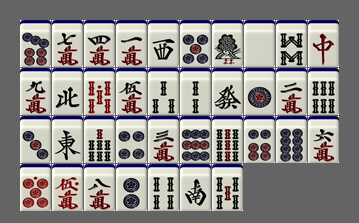0m: (52, 164, 83, 211)
0p: (20, 164, 51, 211)
0s: (84, 68, 115, 115)
1m: (116, 20, 147, 67)
1p: (244, 68, 275, 115)
1s: (212, 20, 243, 67)
1z: (52, 116, 83, 163)
2m: (276, 68, 307, 115)
2p: (116, 164, 147, 211)
2s: (180, 68, 211, 115)
2z: (180, 164, 211, 211)
3m: (148, 116, 179, 163)
3p: (20, 116, 51, 163)
3s: (148, 68, 179, 115)
3z: (148, 20, 179, 67)
4m: (84, 20, 115, 67)
4p: (116, 116, 147, 163)
4s: (148, 164, 179, 211)
4z: (52, 68, 83, 115)
5m: (116, 68, 147, 115)
5p: (180, 20, 211, 67)
5s: (212, 164, 243, 211)
5z: (244, 20, 275, 67)
6m: (308, 116, 339, 163)
6p: (244, 116, 275, 163)
6s: (308, 68, 339, 115)
6z: (212, 68, 243, 115)
7m: (52, 20, 83, 67)
7p: (20, 20, 51, 67)
7s: (84, 116, 115, 163)
7z: (308, 20, 339, 67)
8m: (84, 164, 115, 211)
8p: (276, 116, 307, 163)
8s: (276, 20, 307, 67)
9m: (20, 68, 51, 115)
9p: (180, 116, 211, 163)
9s: (212, 116, 243, 163)
